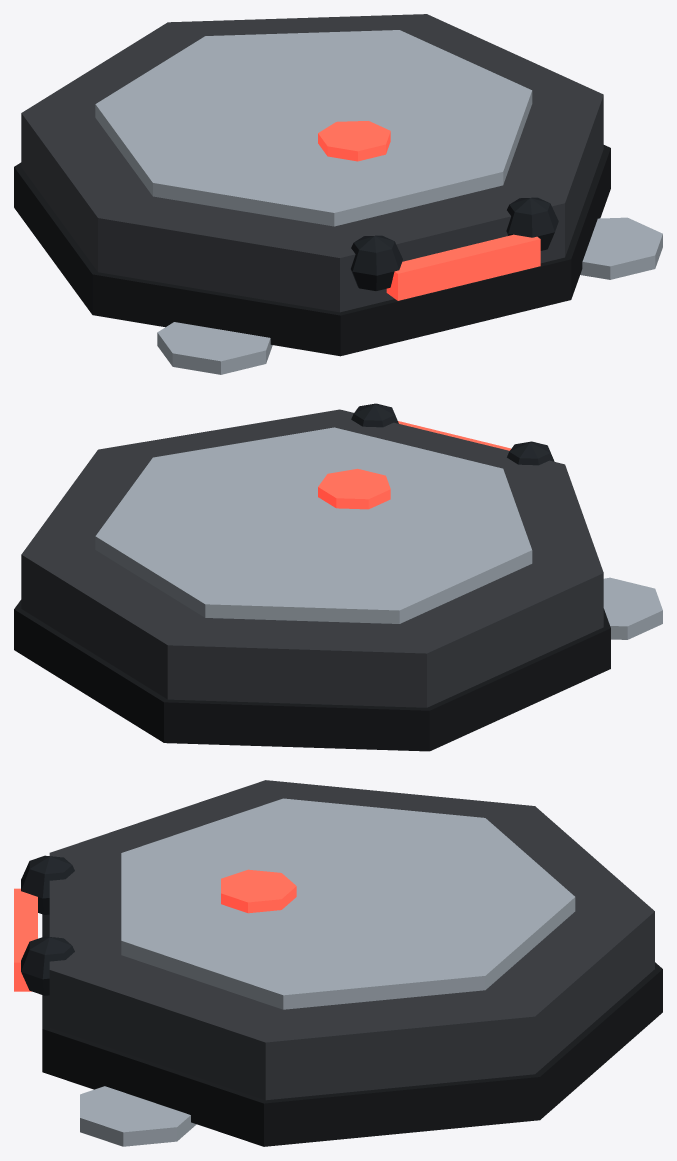
File: roomba-lod1.glb
The picture shows the model from 3 angles, top to bottom: view 1: azimuth 30°, elevation 25°; view 2: azimuth 150°, elevation 25°; view 3: azimuth 270°, elevation 25°; orthographic projection. The views are drawn at different scales.
Visible parts, largest first — view 1: roomba; view 2: roomba; view 3: roomba.
Part boxes in pixels (<box>): roomba: <box>14,14,662,374</box>; roomba: <box>14,403,662,751</box>; roomba: <box>14,780,662,1146</box>.
Bounding box in the file's own units: 0.7994 × 0.185 × 0.815.
